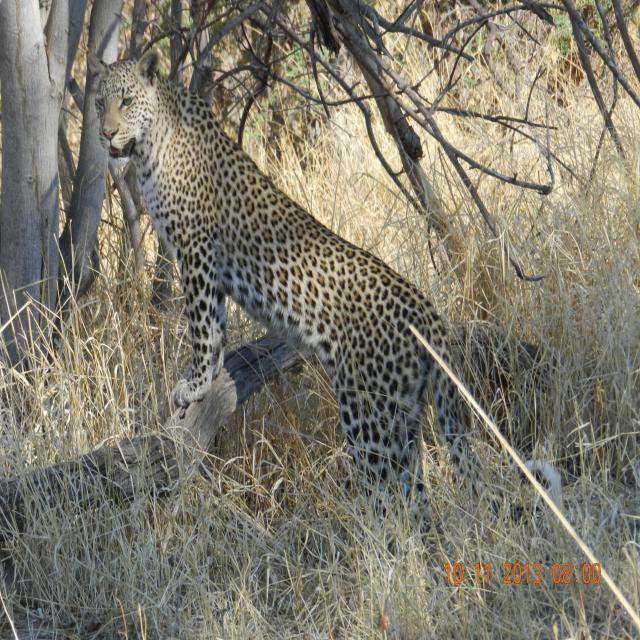Leopard: (67, 44, 556, 564)
